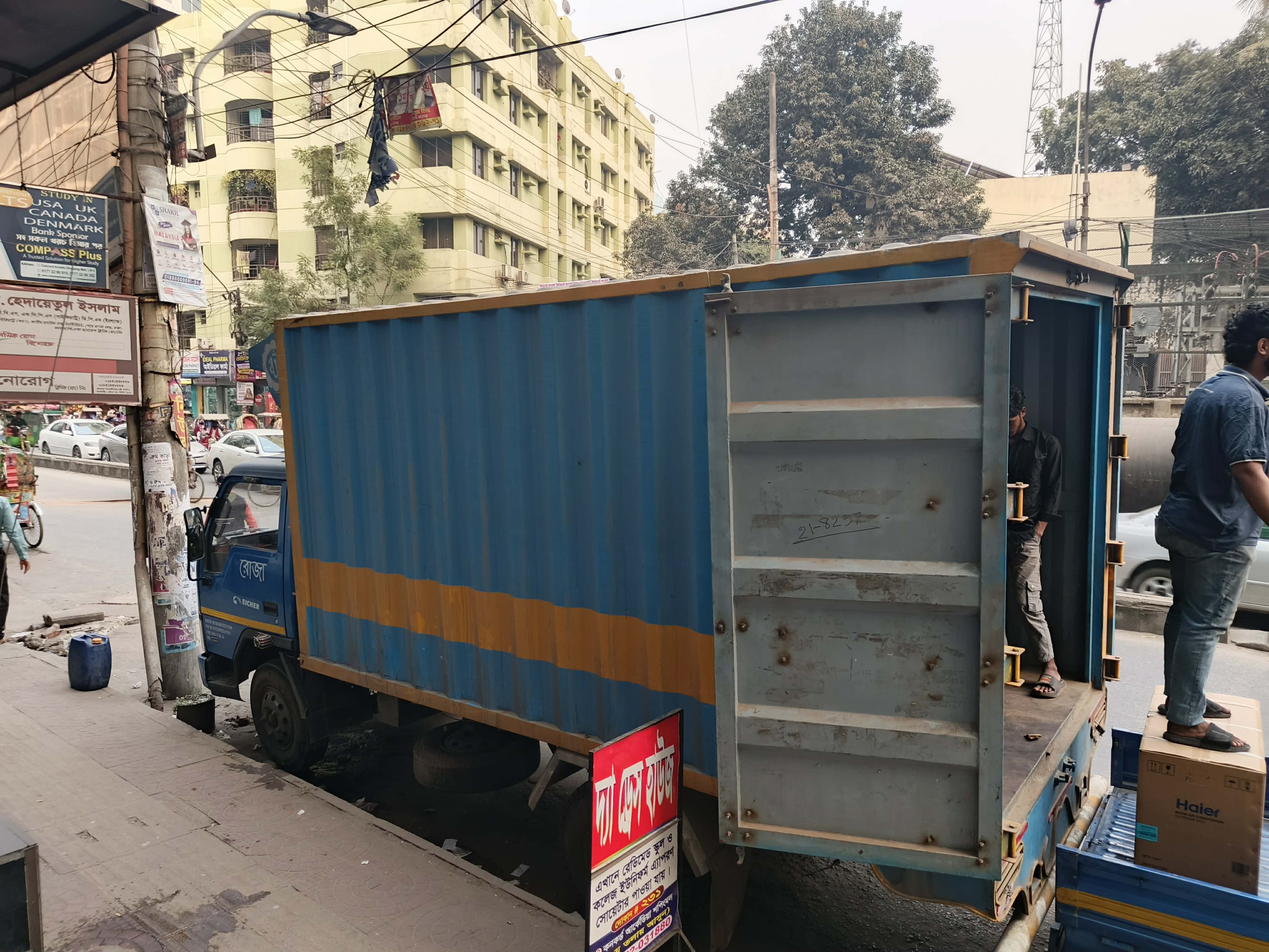Pickup: (170, 229, 1269, 952), (1085, 702, 1269, 952)
auto-ricksaw: (0, 403, 63, 579)
private car: (1127, 452, 1269, 682), (52, 425, 199, 520), (208, 417, 307, 506)
